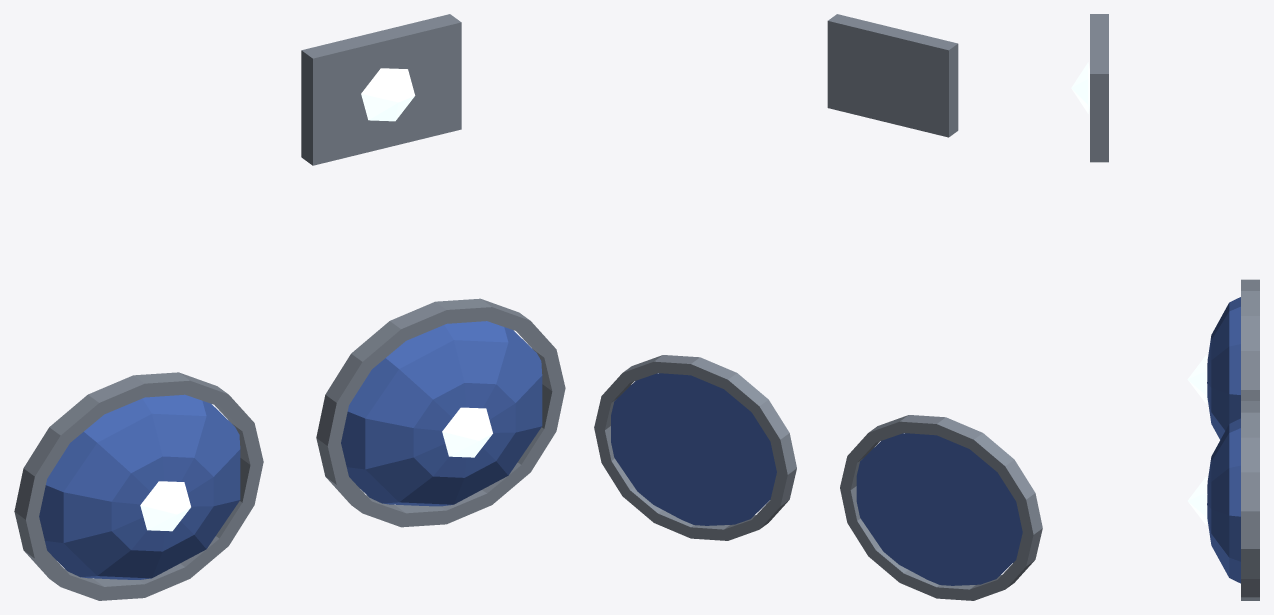
File: armor_knight_legs_rare_orc.glb
3 renders of one model, left to right at view 1: azimuth 30°, elevation 25°; view 2: azimuth 150°, elevation 25°; view 3: azimuth 270°, elevation 25°, orthographic. The views are drawn at different scales.
Visible parts, largest first — view 1: armor_knight_legs_rare_orc__calf_r, armor_knight_legs_rare_orc__calf_l, armor_knight_legs_rare_orc__pelvis; view 2: armor_knight_legs_rare_orc__calf_r, armor_knight_legs_rare_orc__calf_l, armor_knight_legs_rare_orc__pelvis; view 3: armor_knight_legs_rare_orc__calf_l, armor_knight_legs_rare_orc__calf_r, armor_knight_legs_rare_orc__pelvis.
Part boxes in pixels (box(x1,y1,x2,y2)): armor_knight_legs_rare_orc__calf_r: box(14, 372, 263, 600); armor_knight_legs_rare_orc__calf_l: box(316, 298, 565, 527); armor_knight_legs_rare_orc__pelvis: box(301, 14, 461, 165); armor_knight_legs_rare_orc__calf_r: box(840, 415, 1042, 600); armor_knight_legs_rare_orc__calf_l: box(594, 355, 796, 540); armor_knight_legs_rare_orc__pelvis: box(827, 14, 958, 137); armor_knight_legs_rare_orc__calf_l: box(1188, 401, 1259, 600); armor_knight_legs_rare_orc__calf_r: box(1187, 279, 1259, 439); armor_knight_legs_rare_orc__pelvis: box(1071, 14, 1108, 162).
Bounding box in the file's own units: 32.67 × 34 × 11.99.
